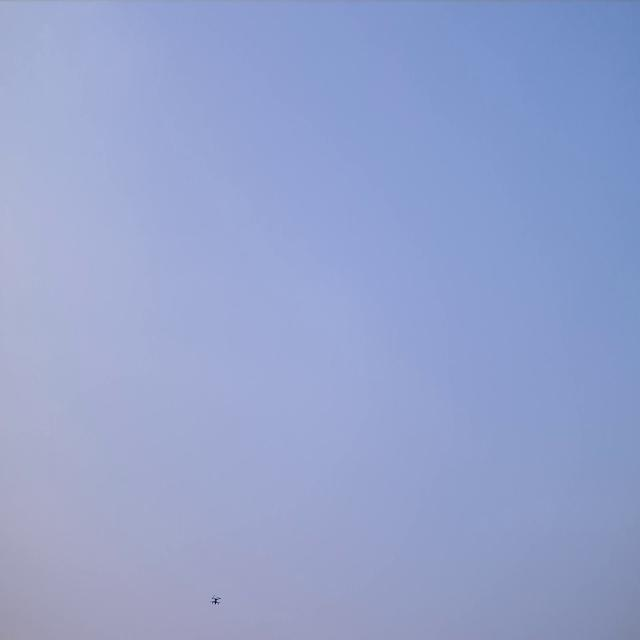UAV: (209, 594, 221, 605)
